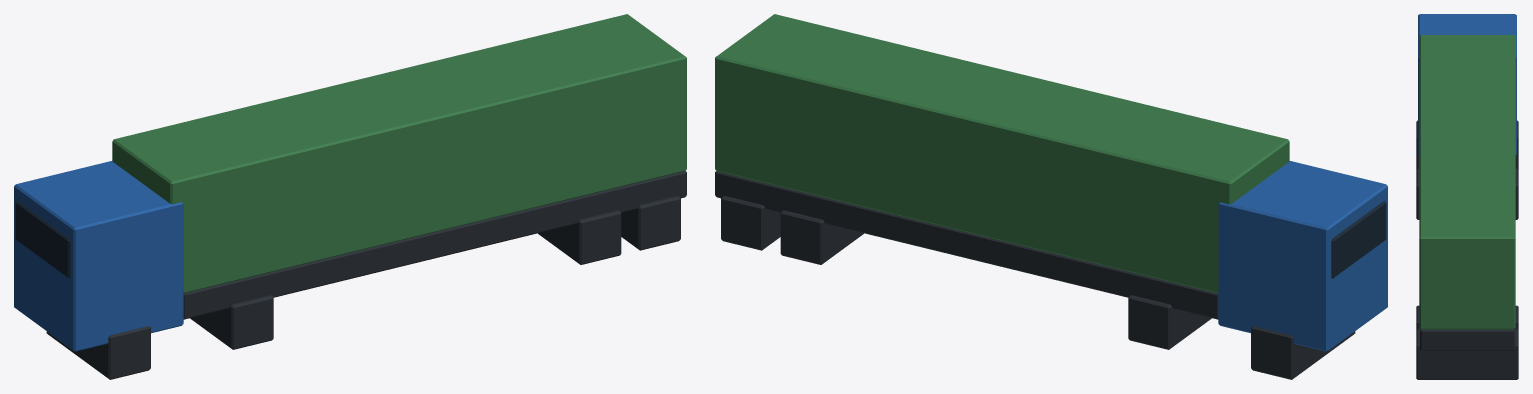
Rendered from tractor.glb.
The picture shows the model from 3 angles, left to right: view 1: azimuth 30°, elevation 25°; view 2: azimuth 150°, elevation 25°; view 3: azimuth 270°, elevation 25°; orthographic projection. The views are drawn at different scales.
Parts seen in each view (by area): view 1: tractor; view 2: tractor; view 3: tractor.
Part boxes in pixels (x1,y1,x2,y2): tractor: (14,14,686,379); tractor: (715,14,1387,379); tractor: (1416,14,1518,379).
Bounding box in the file's own units: 14.55 × 4.09 × 2.6.
